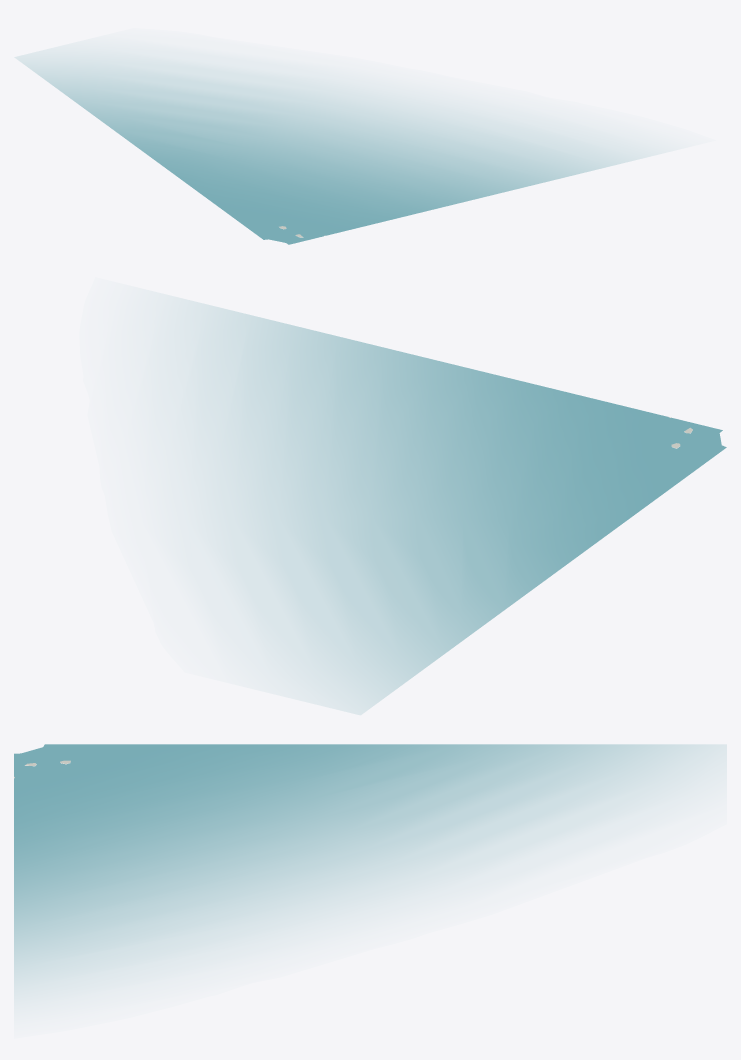
3 renders of one model, top to bottom at view 1: azimuth 30°, elevation 25°; view 2: azimuth 150°, elevation 25°; view 3: azimuth 270°, elevation 25°, orthographic. The views are drawn at different scales.
Visible parts, largest first — view 1: city; view 2: city; view 3: city.
Boxes of the visible parts, x1=… form: city: x1=15, y1=50, x2=657, y2=244; city: x1=169, y1=298, x2=726, y2=714; city: x1=14, y1=744, x2=726, y2=1000.
Size of the model in its own units: 500 by 0.18 by 500.
